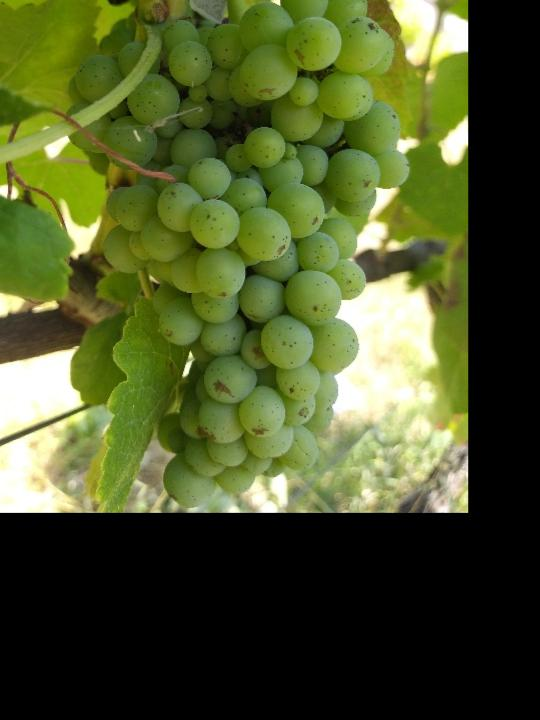grape: (60, 0, 413, 509)
